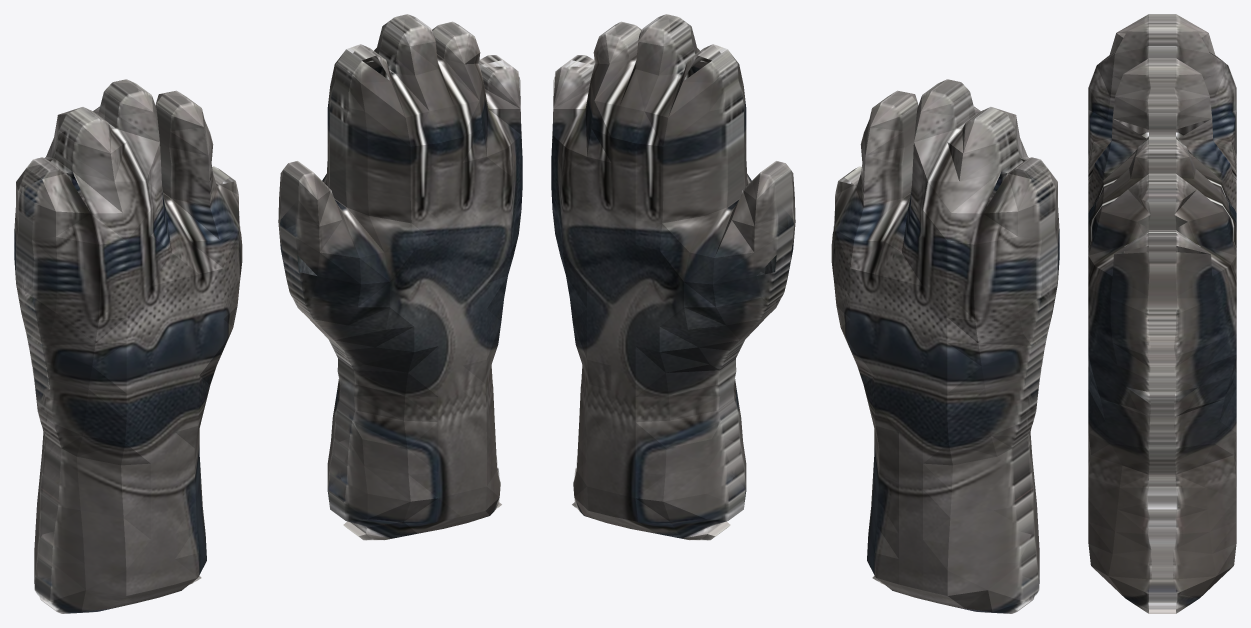
The model's file is agv-nomad-summer-glove-081.glb.
The picture shows the model from 3 angles, left to right: view 1: azimuth 30°, elevation 25°; view 2: azimuth 150°, elevation 25°; view 3: azimuth 270°, elevation 25°; orthographic projection. The views are drawn at different scales.
Visible parts, largest first — view 1: world; view 2: world; view 3: world.
Part boxes in pixels (x1=…): world: x1=14, y1=14, x2=522, y2=613; world: x1=551, y1=14, x2=1059, y2=613; world: x1=1088, y1=14, x2=1236, y2=613.
Bounding box in the file's own units: 1 × 0.9967 × 0.3.
1 material, 1 textured.
